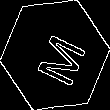M_NW: (25, 23, 85, 87)
